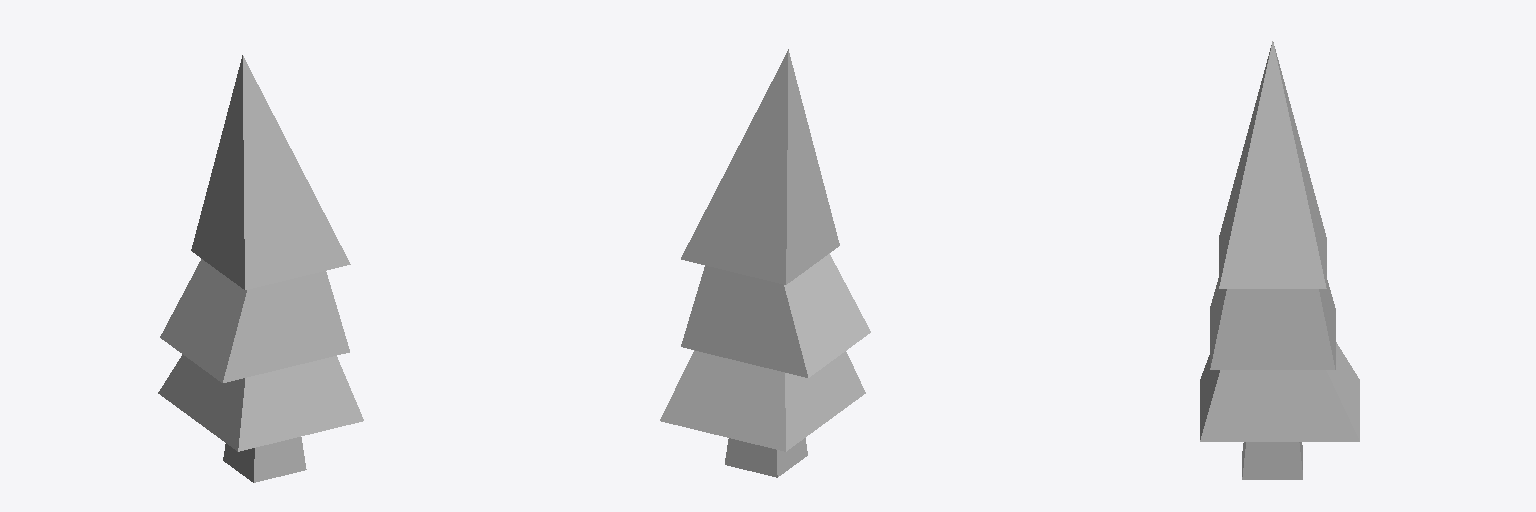
3 renders of one model, left to right at view 1: azimuth 30°, elevation 25°; view 2: azimuth 150°, elevation 25°; view 3: azimuth 270°, elevation 25°, orthographic.
Parts seen in each view (by area): view 1: Mesh1 Tree Model; view 2: Mesh1 Tree Model; view 3: Mesh1 Tree Model.
Boxes of the visible parts, <box> form: Mesh1 Tree Model: <box>158,55,363,482</box>; Mesh1 Tree Model: <box>660,49,870,477</box>; Mesh1 Tree Model: <box>1200,41,1359,479</box>.
Size of the model in its own units: 0.3439 by 1 by 0.349.